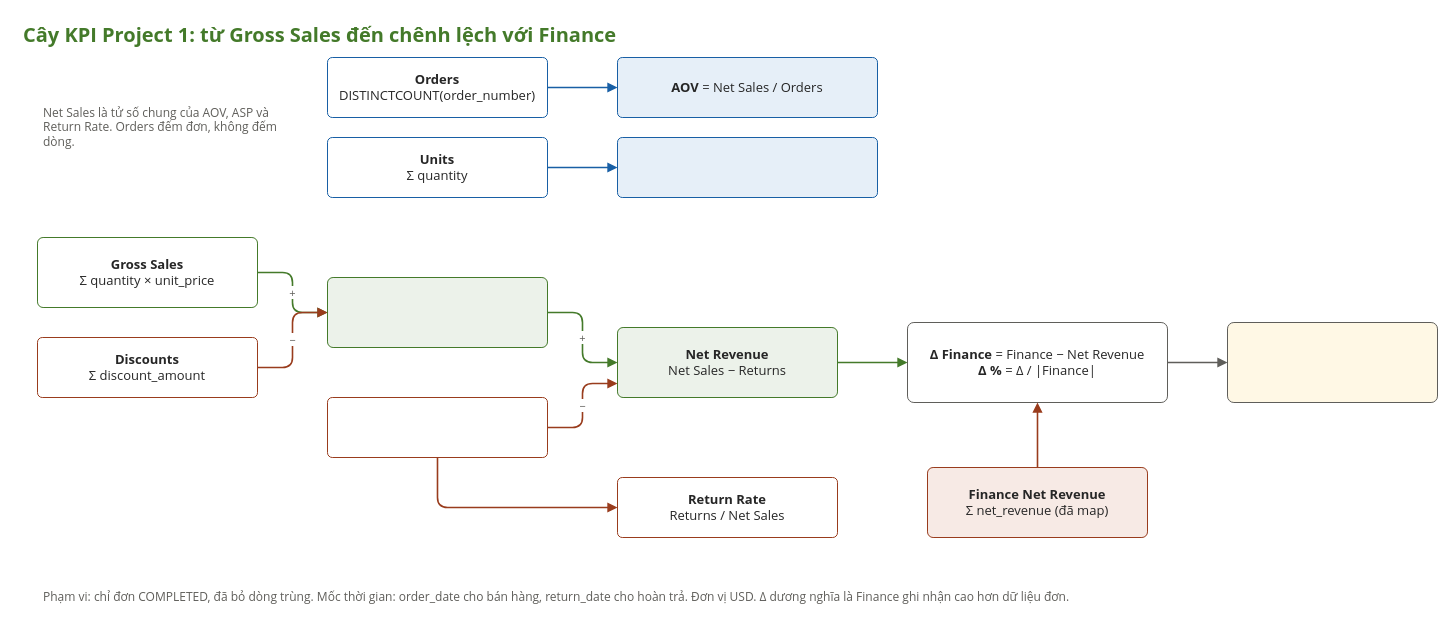
This 1455x644 diagram has some shape labels left out. The shapes that lost their labels are listed below. From the top down, each one's box as (x1, y1, x2, y2) in pixels, then its label:
(616, 136, 878, 198): ASP = Net Sales / Units
(326, 276, 548, 348): Net Sales Gross − Discounts
(1226, 322, 1438, 402): Cờ vượt ngưỡng |Δ| > 200 USD và |Δ %| > 1 %
(326, 396, 548, 458): Returns Σ return_amount (return_date)
